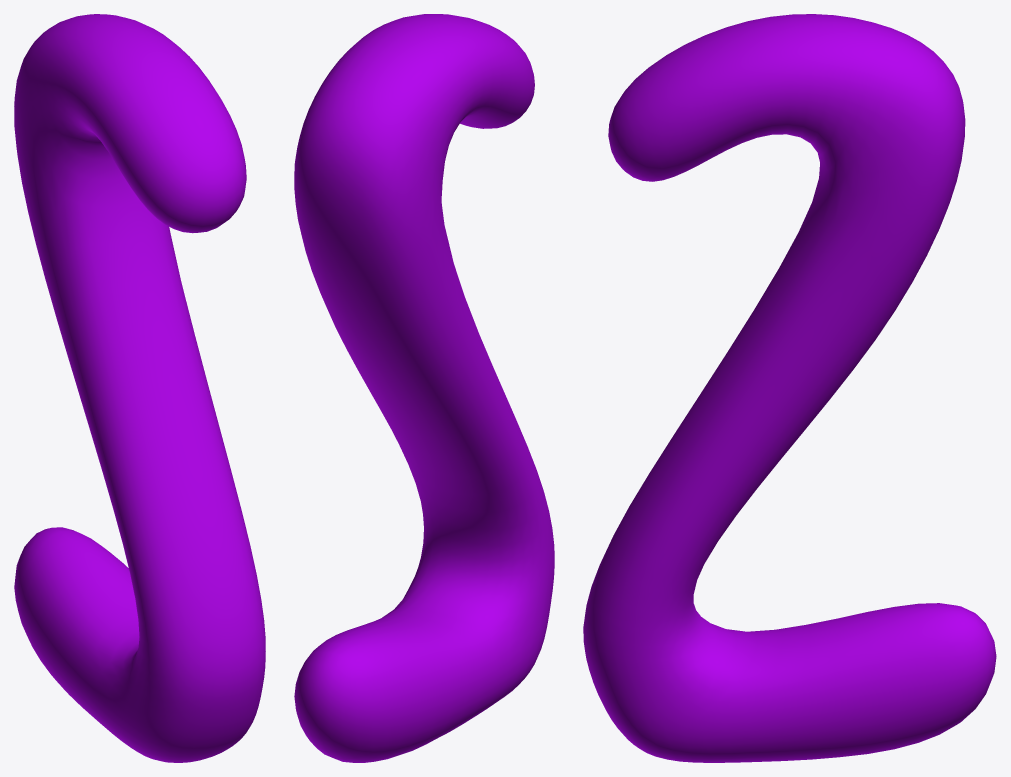
The model's file is TwoBalloon.fbx.
3 views of the same model, side by side, from view 1: azimuth 30°, elevation 25°; view 2: azimuth 150°, elevation 25°; view 3: azimuth 270°, elevation 25° (orthographic). The views are drawn at different scales.
Parts seen in each view (by area): view 1: Two; view 2: Two; view 3: Two.
Part boxes in pixels (x1,y1,x2,y2): Two: (14,14,265,762); Two: (294,14,554,762); Two: (583,14,996,762).
Bounding box in the file's own units: 14.33 × 79.72 × 40.9.
